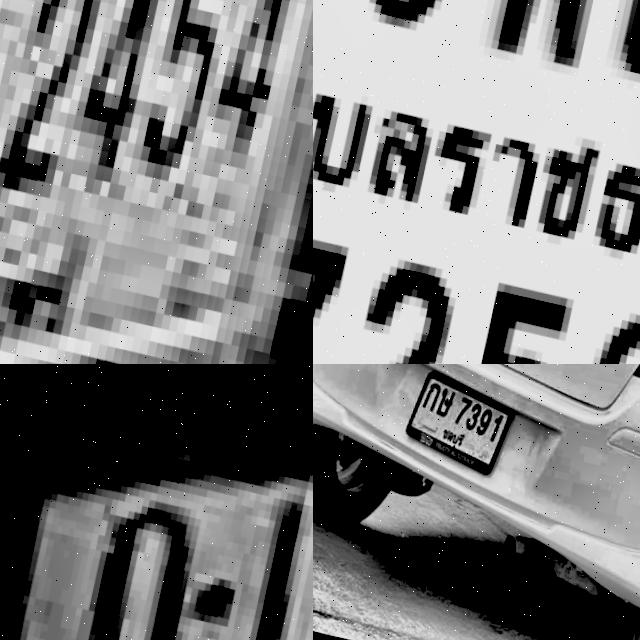license-plate: (313, 0, 640, 364), (0, 0, 313, 364), (0, 364, 313, 640), (400, 364, 522, 480)
